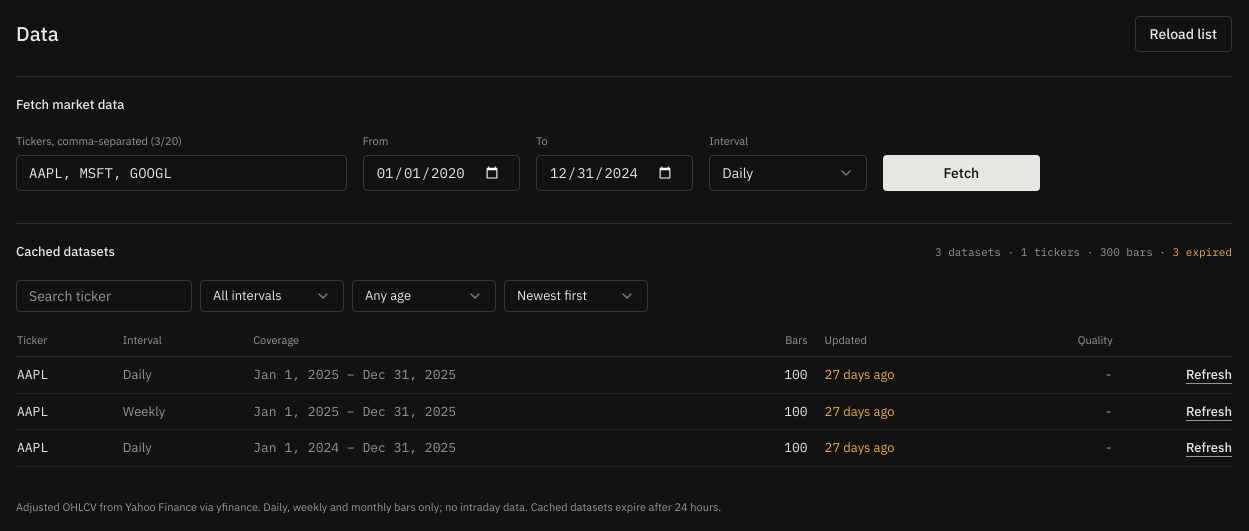
Test: fetch quality only appears on the matching cached window and interval
Click the 2nd button "Refresh": (1209,411) [1186,402,1232,421]
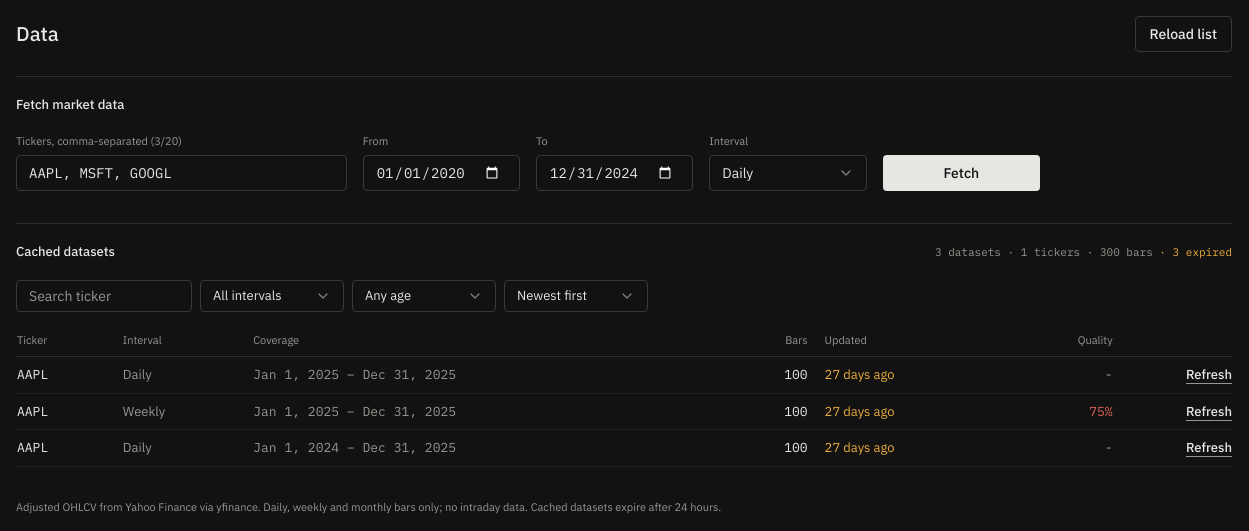
Expected: the text "75%" is shown once, [1014,393,1129,430]
Now the text "75%" is shown, box [1014,393,1129,430]
